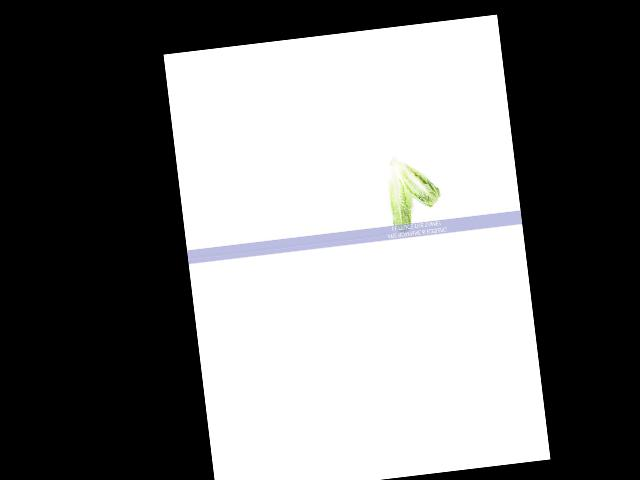lettuce: (388, 145, 439, 214)
